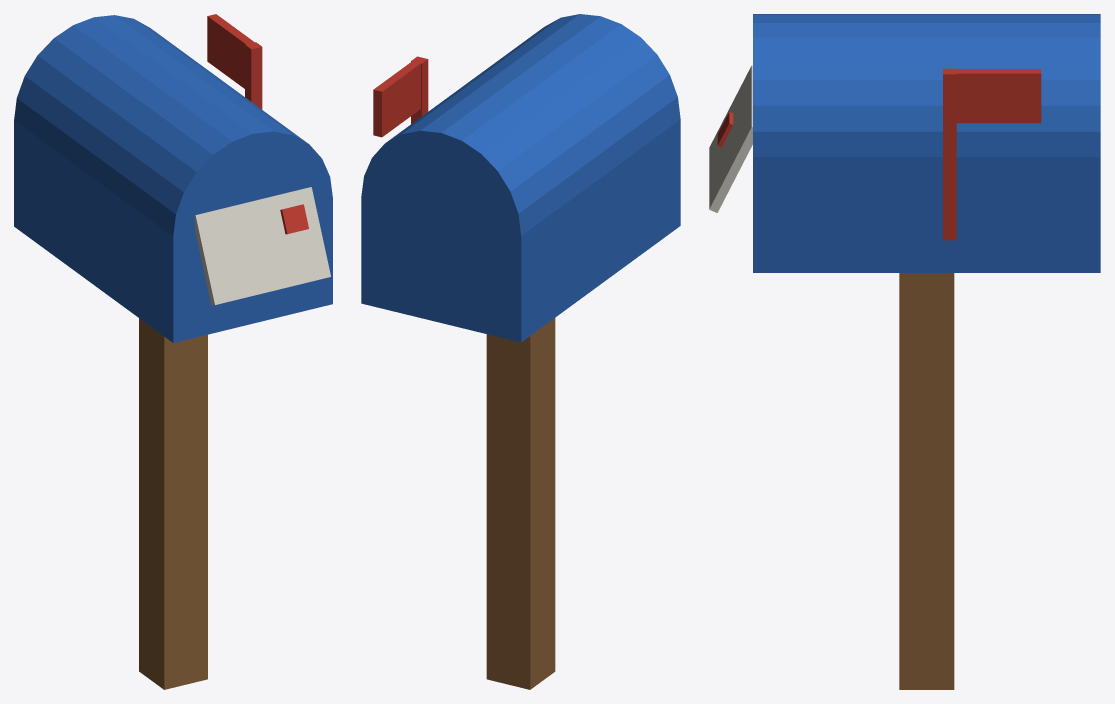
File: beach_mailbox.glb
The picture shows the model from 3 angles, left to right: view 1: azimuth 30°, elevation 25°; view 2: azimuth 150°, elevation 25°; view 3: azimuth 270°, elevation 25°; orthographic projection. The views are drawn at different scales.
Parts seen in each view (by area): view 1: Mailbox; view 2: Mailbox; view 3: Mailbox.
Part boxes in pixels (<box>): Mailbox: <box>14,14,332,689</box>; Mailbox: <box>361,14,680,689</box>; Mailbox: <box>709,14,1100,689</box>.
Bounding box in the file's own units: 0.485 × 1.58 × 0.8556.
